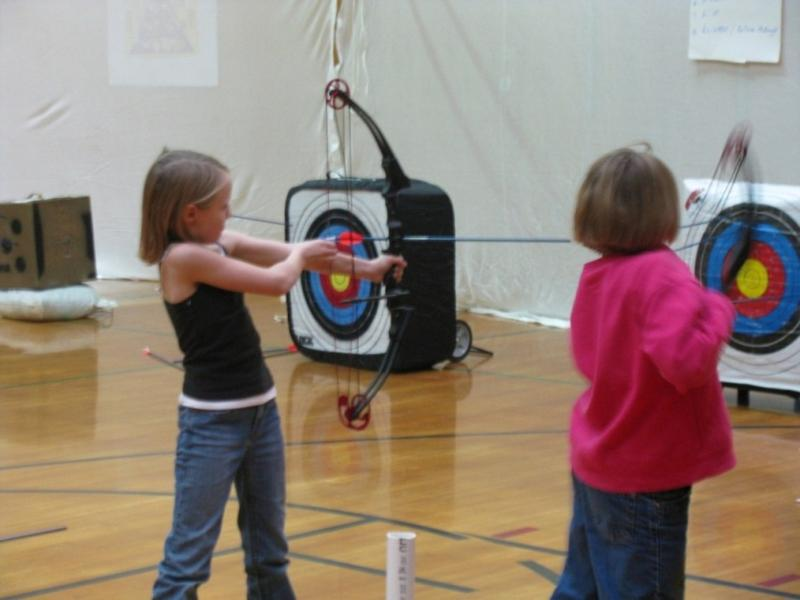person: (134, 142, 414, 598)
